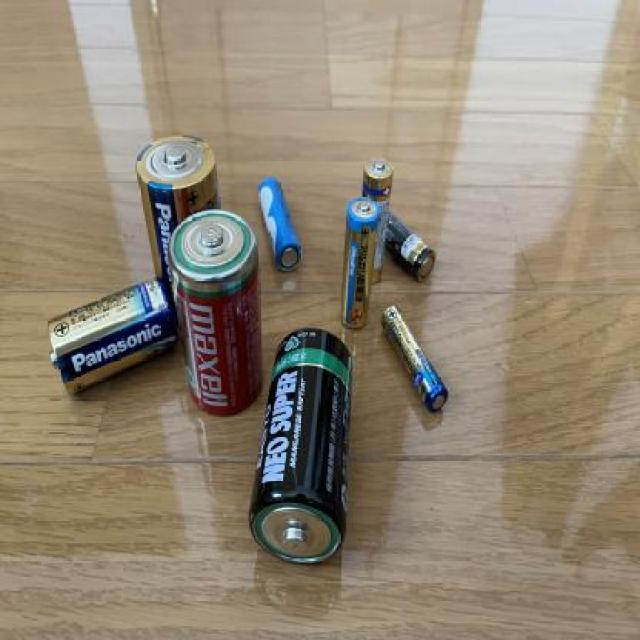hazardous waste: (248, 324, 364, 572), (164, 209, 270, 417), (130, 131, 224, 317), (46, 272, 180, 400), (380, 302, 449, 416), (338, 198, 380, 328), (257, 175, 305, 272), (358, 157, 391, 283), (386, 214, 437, 283)
